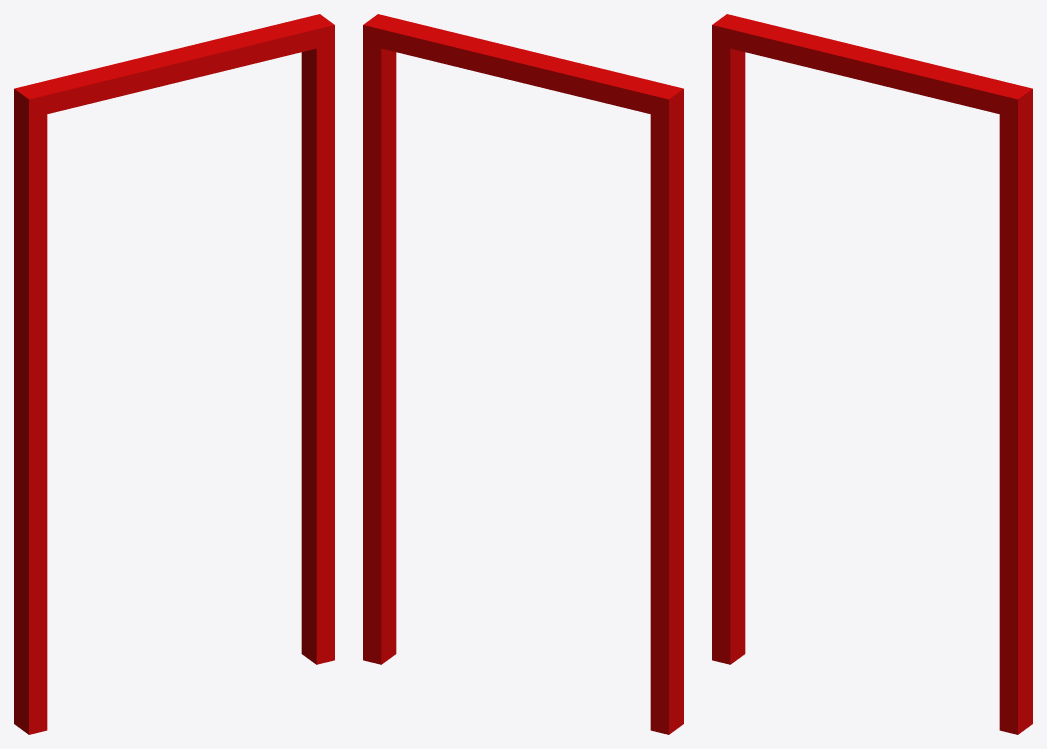
File: SM_SingleDoorBFrameCollider.fbx
The picture shows the model from 3 angles, left to right: view 1: azimuth 30°, elevation 25°; view 2: azimuth 150°, elevation 25°; view 3: azimuth 330°, elevation 25°; orthographic projection.
Parts seen in each view (by area): view 1: SingleDoorBFrameCollision; view 2: SingleDoorBFrameCollision; view 3: SingleDoorBFrameCollision.
Part boxes in pixels (x1=…): SingleDoorBFrameCollision: x1=14, y1=14, x2=334, y2=734; SingleDoorBFrameCollision: x1=363, y1=14, x2=683, y2=734; SingleDoorBFrameCollision: x1=712, y1=14, x2=1032, y2=734.
Size of the model in its own units: 125 by 248 by 10.57.
